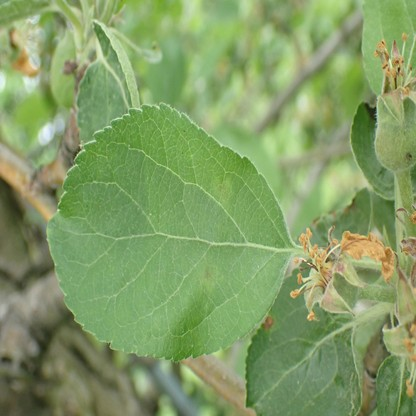frogeye_leaf_spot: (263, 317, 272, 328)
scab: (211, 176, 230, 207), (203, 262, 218, 290)
